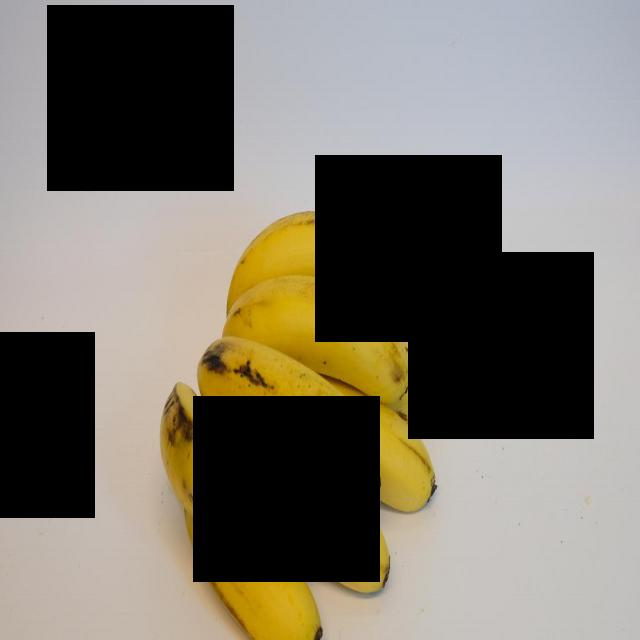banana: (196, 330, 383, 497), (159, 380, 319, 561), (251, 428, 402, 605), (223, 274, 410, 407), (226, 208, 411, 338), (177, 507, 328, 638)
